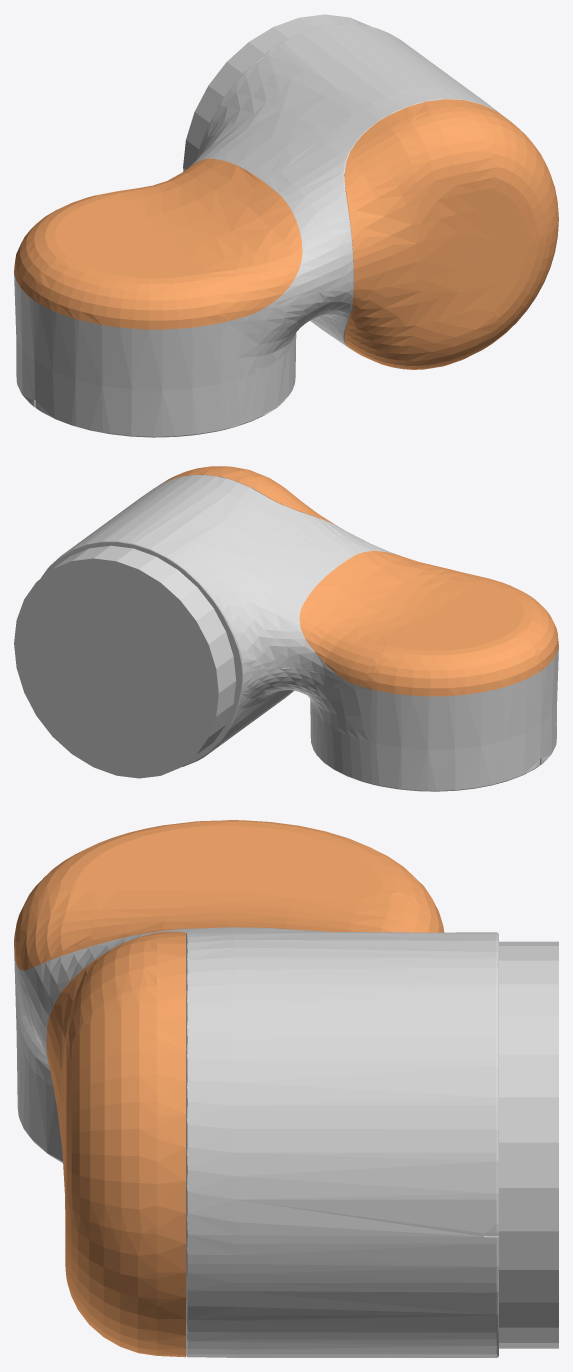
The picture shows the model from 3 angles, top to bottom: view 1: azimuth 30°, elevation 25°; view 2: azimuth 150°, elevation 25°; view 3: azimuth 270°, elevation 25°; orthographic projection. The views are drawn at different scales.
Visible parts, largest first — view 1: Link; view 2: Link; view 3: Link.
Boxes of the visible parts, x1,y1,x2,y2 form: Link: (14,14,558,437); Link: (14,466,558,791); Link: (14,820,558,1357).
Size of the model in its own units: 0.1696 by 0.083 by 0.1063.
